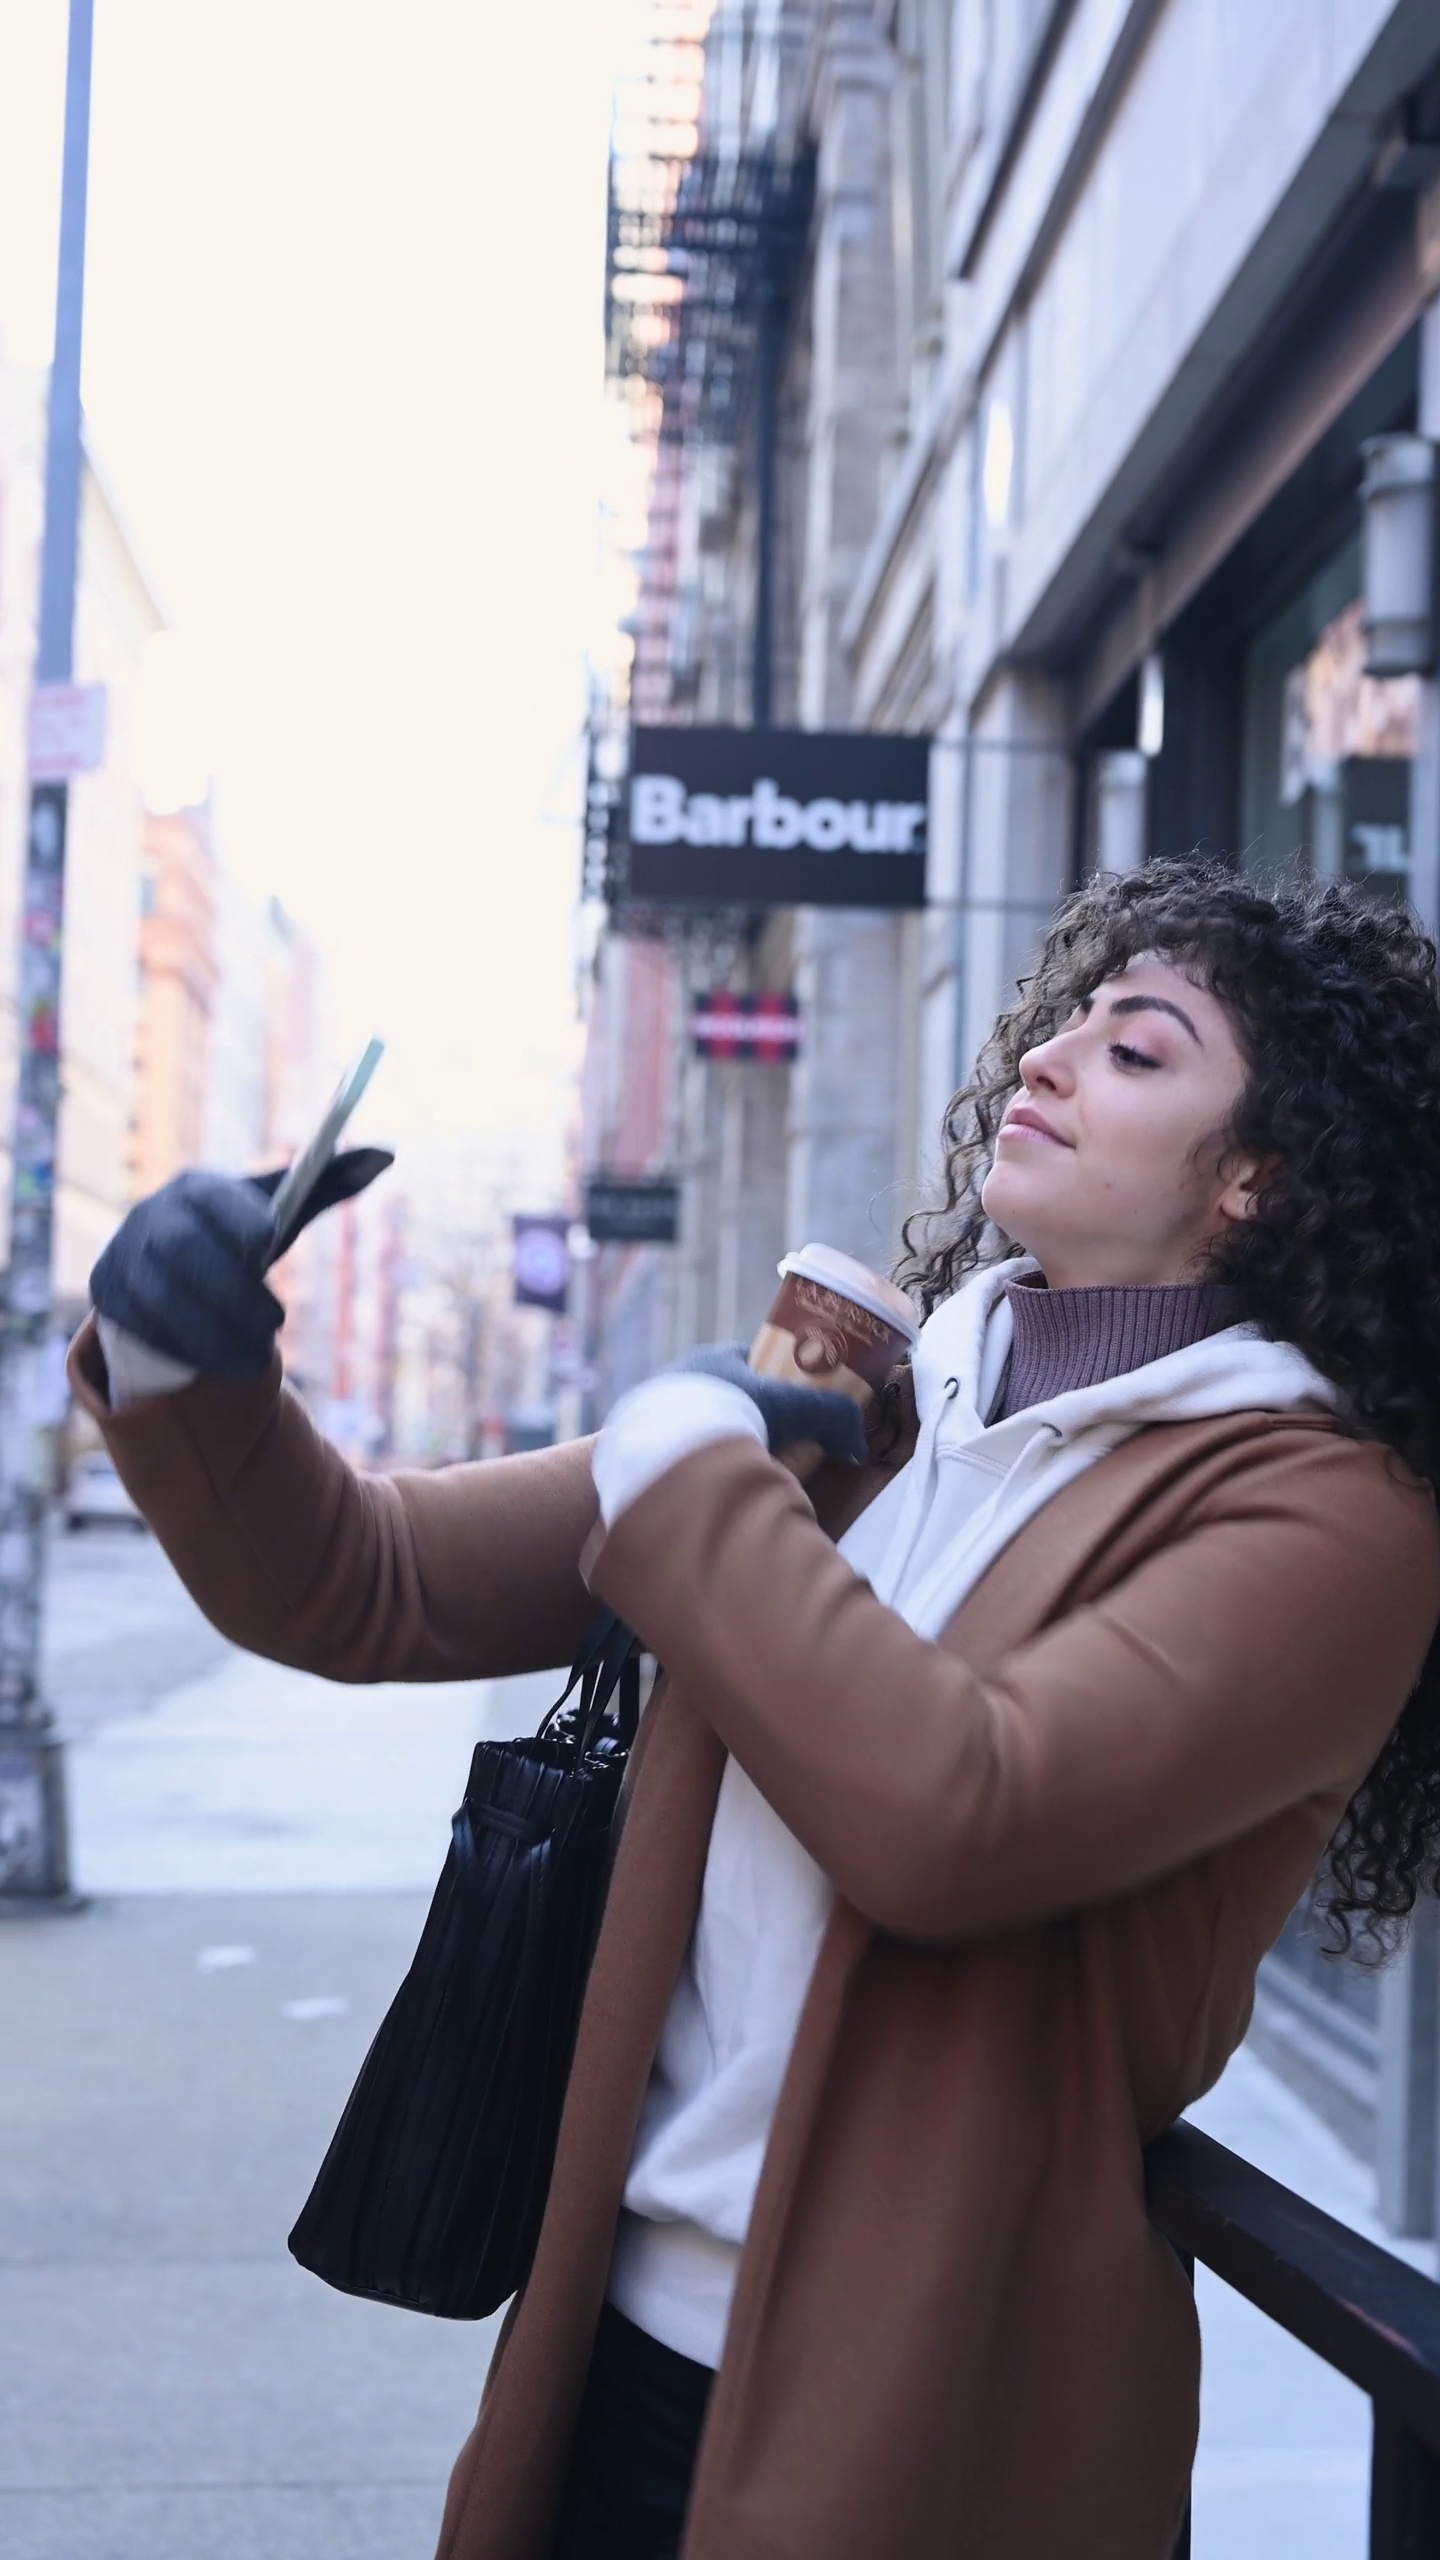phone: (244, 1013, 401, 1278)
